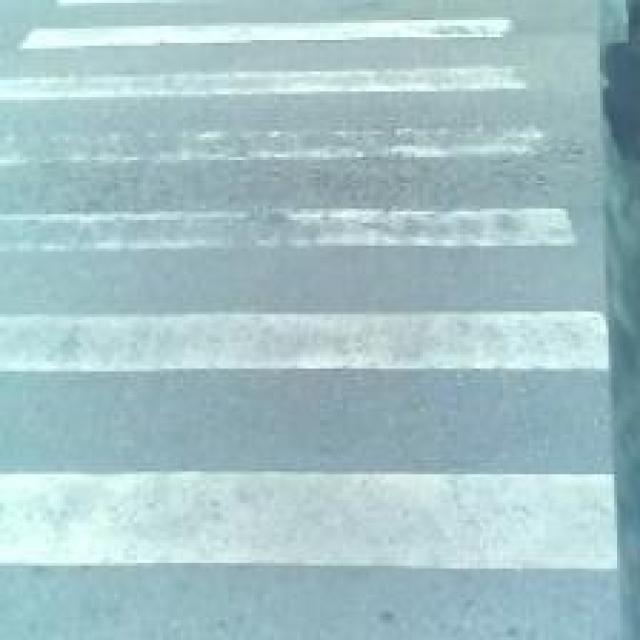zebra: (12, 17, 594, 640)
